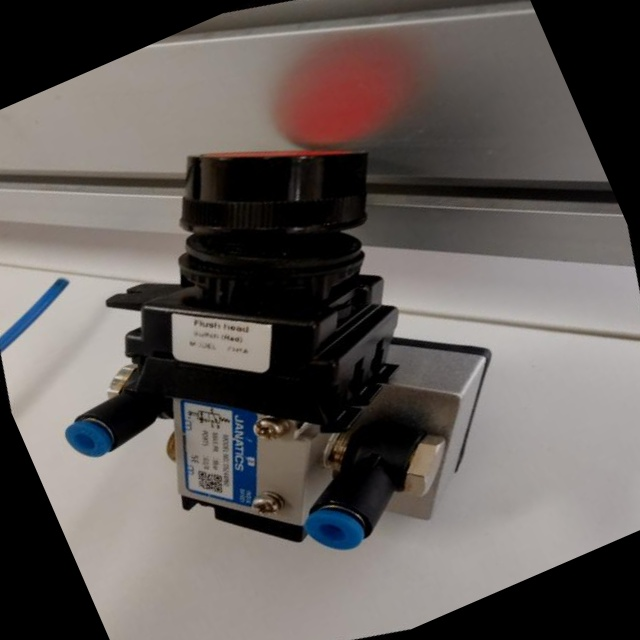push button: (0, 17, 608, 640)
